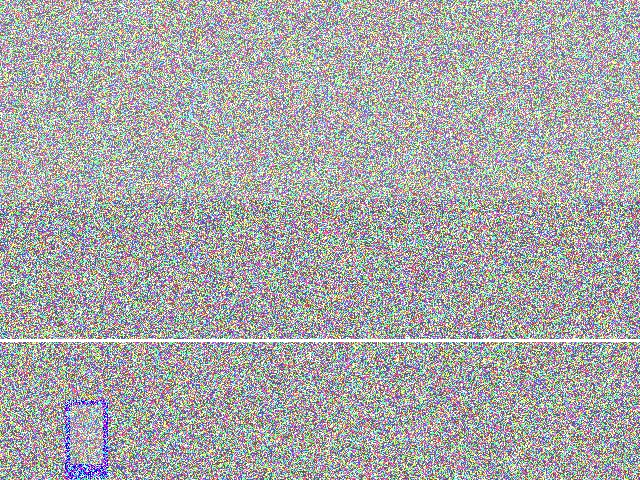car: (412, 227, 531, 283)
truck: (67, 276, 195, 352)
